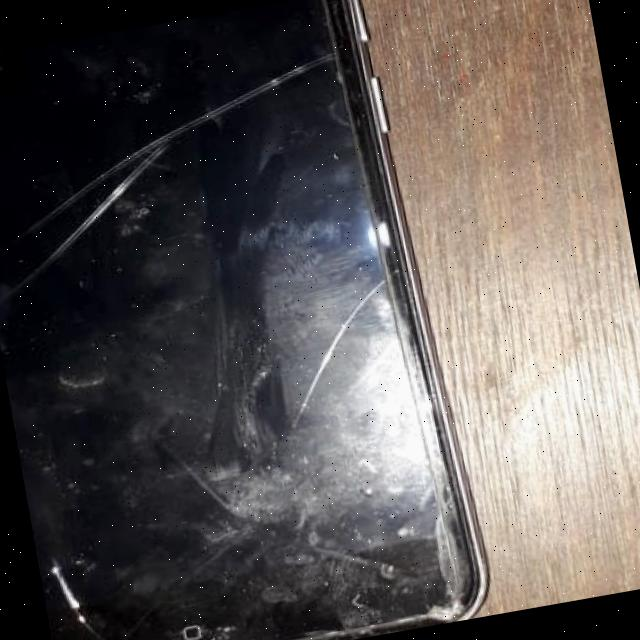Scratches: (34, 43, 335, 297), (280, 267, 393, 455)
